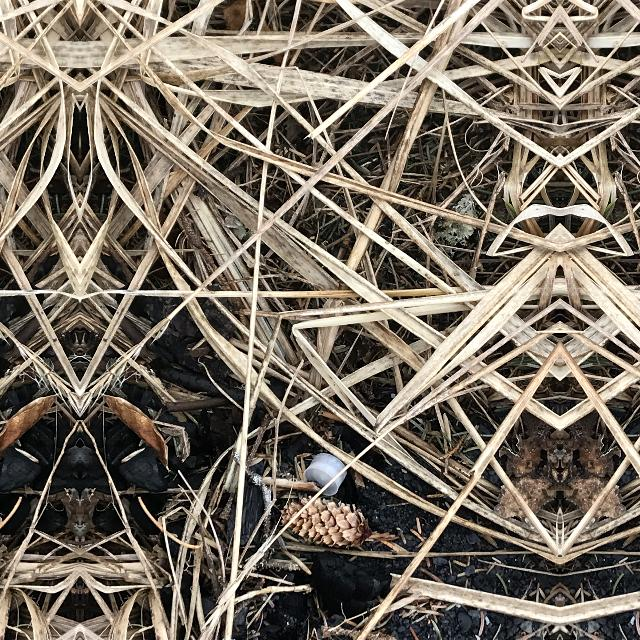Plastic: (294, 446, 354, 504)
